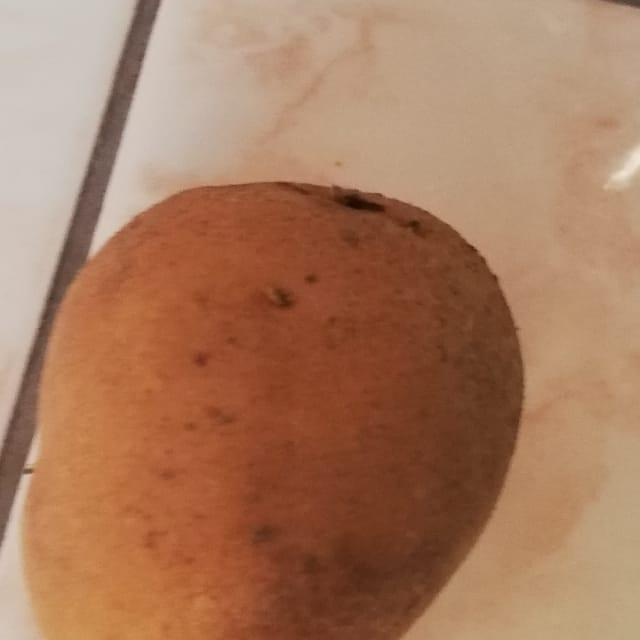potato: (0, 152, 548, 640)
